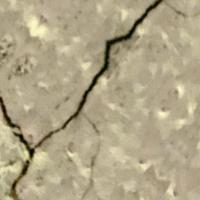crack: (0, 0, 162, 199)
